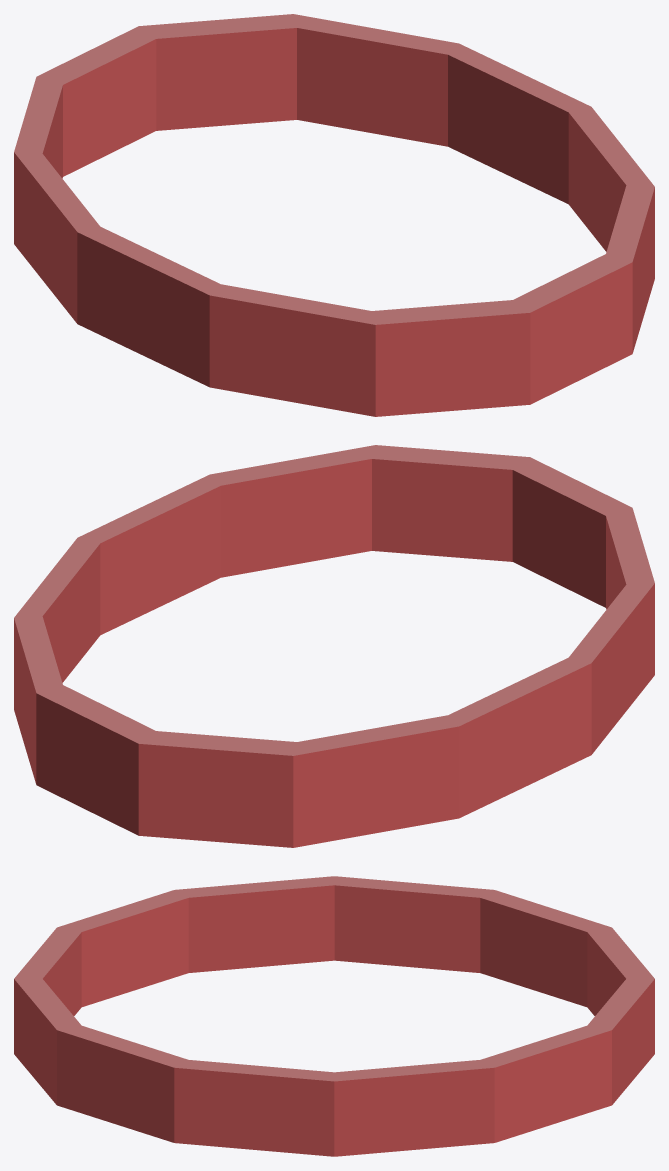
The model's file is Rubberband.fbx.
3 views of the same model, one above another, from view 1: azimuth 30°, elevation 25°; view 2: azimuth 150°, elevation 25°; view 3: azimuth 270°, elevation 25° (orthographic). The views are drawn at different scales.
Parts seen in each view (by area): view 1: Rubberband; view 2: Rubberband; view 3: Rubberband.
Part boxes in pixels (x1,y1,x2,y2): Rubberband: (14,14,654,416); Rubberband: (14,445,654,847); Rubberband: (14,876,654,1156).
Size of the model in its own units: 5.13 by 0.8771 by 6.76.
